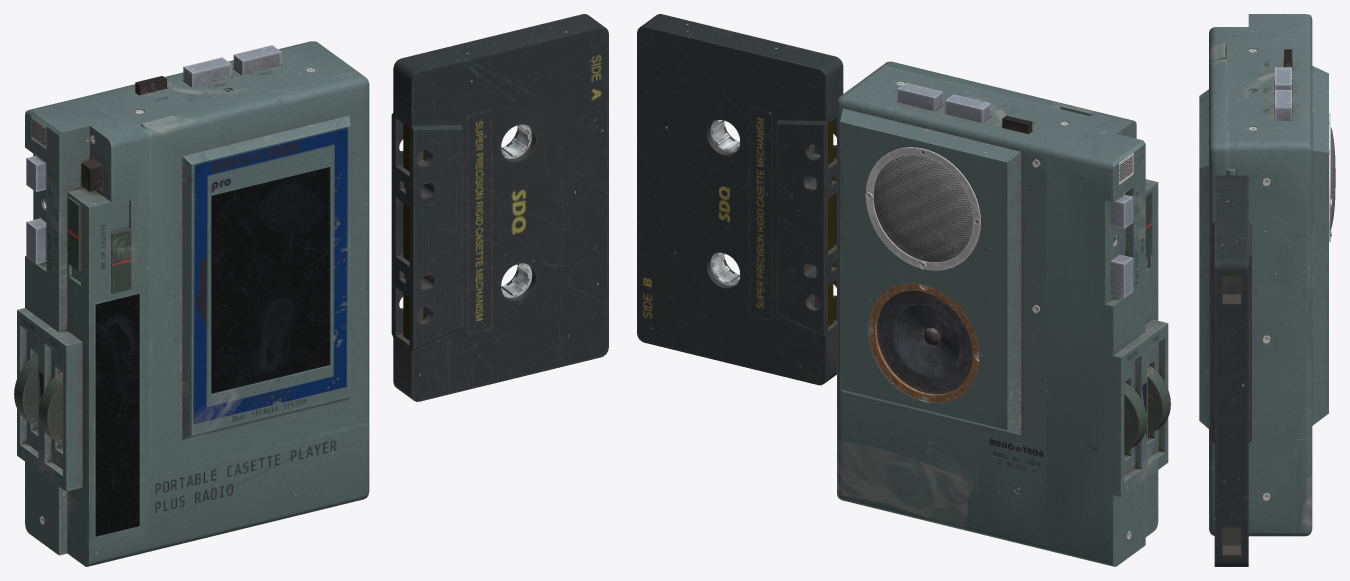
Rendered from portable_cassette_player.gltf.
3 views of the same model, side by side, from view 1: azimuth 30°, elevation 25°; view 2: azimuth 150°, elevation 25°; view 3: azimuth 270°, elevation 25° (orthographic). The views are drawn at different scales.
Parts seen in each view (by area): view 1: portable_cassette_player, portable_cassette_player_lid, portable_cassette_player_casette; view 2: portable_cassette_player, portable_cassette_player_casette, portable_cassette_player_lid; view 3: portable_cassette_player, portable_cassette_player_casette, portable_cassette_player_lid.
Boxes of the visible parts, x1,y1,x2,y2 form: portable_cassette_player: (14,41,369,566); portable_cassette_player_lid: (141,72,369,476); portable_cassette_player_casette: (391,14,608,401); portable_cassette_player: (837,66,1170,566); portable_cassette_player_casette: (637,14,843,385); portable_cassette_player_lid: (881,61,1097,116); portable_cassette_player: (1209,14,1335,536); portable_cassette_player_casette: (1211,175,1251,566); portable_cassette_player_lid: (1199,42,1235,466).
Bounding box in the file's own units: 0.1723 × 0.1303 × 0.0397.
Materials: 2 (2 with a texture image).
